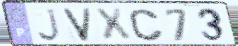3: (196, 7, 229, 44)
7: (164, 8, 190, 43)
C: (127, 8, 165, 42)
J: (37, 8, 63, 44)
V: (60, 7, 94, 44)
X: (93, 7, 135, 44)
